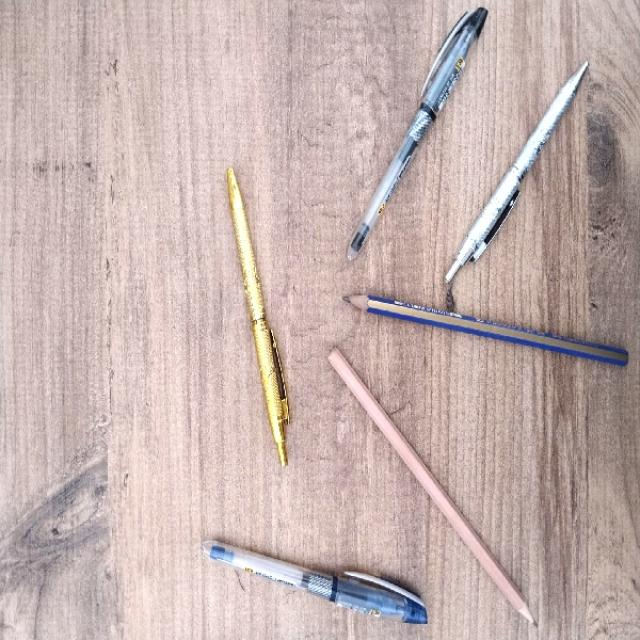pen: (346, 10, 483, 261), (200, 541, 423, 624)
pencil: (329, 348, 531, 622), (344, 294, 630, 364)
signature pen: (445, 62, 587, 282), (226, 169, 285, 467)
